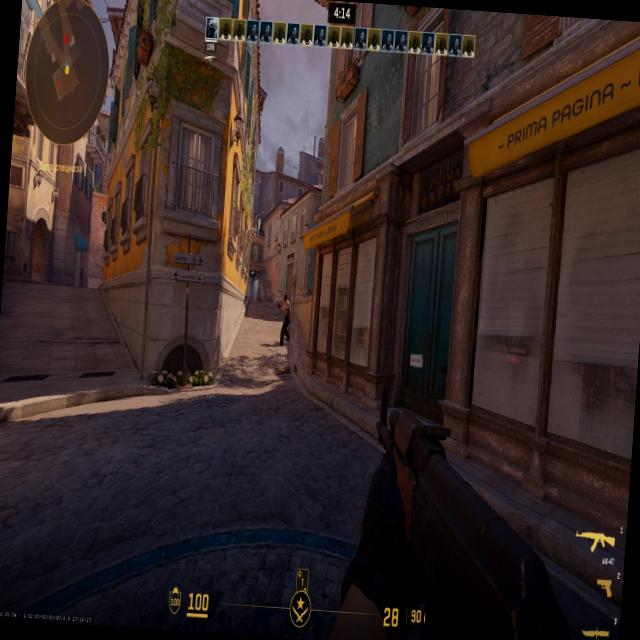T: (280, 290, 290, 338)
T_heat: (284, 298, 286, 305)
